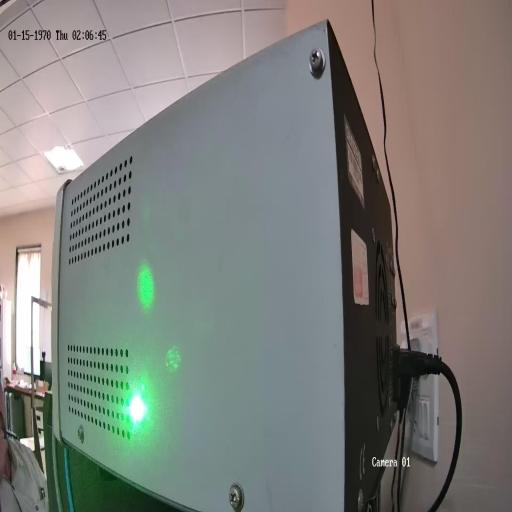laser: (127, 388, 148, 427)
